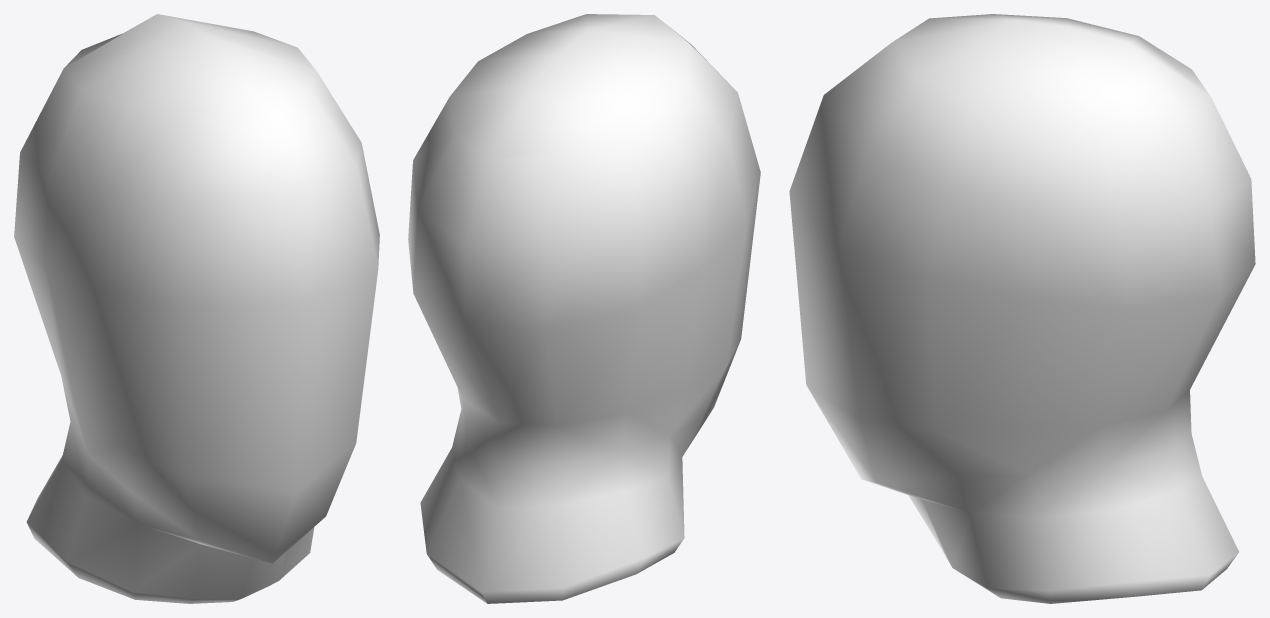
File: maniqui_head.fbx
3 views of the same model, side by side, from view 1: azimuth 30°, elevation 25°; view 2: azimuth 150°, elevation 25°; view 3: azimuth 270°, elevation 25° (orthographic). The views are drawn at different scales.
Visible parts, largest first — view 1: polySurface1; view 2: polySurface1; view 3: polySurface1.
Boxes of the visible parts, bbox=[...] form: polySurface1: bbox=[14, 14, 379, 603]; polySurface1: bbox=[408, 14, 760, 603]; polySurface1: bbox=[789, 14, 1255, 603].
Bounding box in the file's own units: 13.11 × 23.87 × 18.31.
